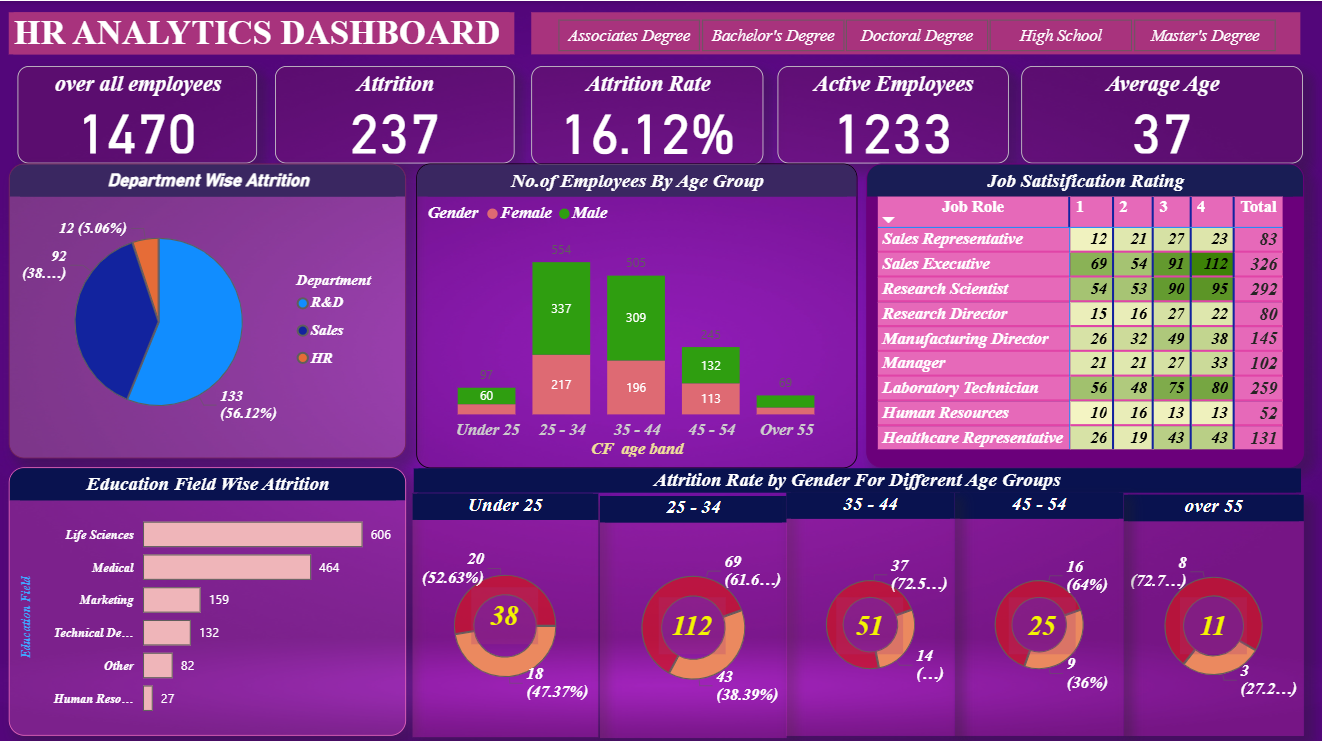

The page's visual inventory and layout, read from the dashboard file:
{"tool":"powerbi","page":{"name":"Page 1","canvas":[1280,720],"ordinal":0},"visuals":[{"type":"card","title":"over all employees","fields":{"Values":["Sum(Table1.Employee Count)"]},"box":[16.5,63.1,231.9,94.7],"z":0},{"type":"card","title":"Attrition","fields":{"Values":["Sum(Table1.Attrition Count)"]},"box":[266.2,63.1,231.9,94.7],"z":1000},{"type":"card","title":"Attrition Rate","fields":{"Values":["Table1.Attrition Rate"]},"box":[514.5,62.9,225.2,95.6],"z":2000},{"type":"card","title":"Active Employees","fields":{"Values":["Table1.Active Employees"]},"box":[753.3,63.1,223.7,94.7],"z":3000},{"type":"card","title":"Average Age","fields":{"Values":["Avg(Table1.Age)"]},"box":[989.4,63.1,273.1,94.7],"z":4000},{"type":"pieChart","title":"Department Wise Attrition","fields":{"Category":["Table1.Department"],"Y":["Sum(Table1.Attrition Count)"]},"box":[8.5,157.4,384.9,285.7],"z":5000},{"type":"columnChart","title":"No.of Employees By Age Group","fields":{"Category":["Table1.CF_age band"],"Y":["Sum(Table1.Employee Count)"],"Series":["Table1.Gender"]},"box":[403.1,157.4,427.3,295.4],"z":6000},{"type":"pivotTable","title":"Job Satisification Rating","fields":{"Rows":["Table1.Job Role"],"Columns":["Table1.Job Satisfaction"],"Values":["Sum(Table1.Employee Count)"]},"box":[838.9,157.4,423.7,294.2],"z":7000},{"type":"barChart","title":"Education Field Wise Attrition","fields":{"Category":["Table1.Education Field"],"Y":["Sum(Table1.Employee Count)"]},"box":[8.5,451.5,384.9,260.3],"z":8000},{"type":"donutChart","title":"Under 25","fields":{"Category":["Table1.Gender"],"Y":["Sum(Table1.Attrition Count)"],"Series":["Table1.CF_age band"]},"box":[399.3,477.5,179.8,236],"z":9000},{"type":"textbox","title":"Attrition Rate by Gender For Different Age Groups","box":[400.7,452.7,859.5,23],"z":10000},{"type":"donutChart","title":" 25 - 34","fields":{"Category":["Table1.Gender"],"Y":["Sum(Table1.Attrition Count)"],"Series":["Table1.CF_age band"]},"box":[580.4,478.9,181.1,234.6],"z":11000},{"type":"donutChart","title":"over 55","fields":{"Category":["Table1.Gender"],"Y":["Sum(Table1.Attrition Count)"],"Series":["Table1.CF_age band"]},"box":[1088.2,478.1,174.3,233.6],"z":12000},{"type":"donutChart","title":"45 - 54 ","fields":{"Category":["Table1.Gender"],"Y":["Sum(Table1.Attrition Count)"],"Series":["Table1.CF_age band"]},"box":[924.8,475.7,163.4,236],"z":13000},{"type":"donutChart","title":"35 - 44","fields":{"Category":["Table1.Gender"],"Y":["Sum(Table1.Attrition Count)"],"Series":["Table1.CF_age band"]},"box":[761.4,475.7,163.4,236],"z":14000},{"type":"card","fields":{"Values":["Sum(Table1.Attrition Count)"]},"box":[456.9,568.1,64.5,54.9],"z":15000},{"type":"card","fields":{"Values":["Sum(Table1.Attrition Count)"]},"box":[977,577.7,64.5,54.9],"z":16000},{"type":"card","fields":{"Values":["Sum(Table1.Attrition Count)"]},"box":[809.6,577.7,64.5,54.9],"z":17000},{"type":"card","fields":{"Values":["Sum(Table1.Attrition Count)"]},"box":[638.1,577.7,64.5,54.9],"z":18000},{"type":"card","fields":{"Values":["Sum(Table1.Attrition Count)"]},"box":[1143.1,577.7,64.5,54.9],"z":19000},{"type":"textbox","title":"HR ANALYTICS DASHBOARD","box":[8.2,11,489.9,41.2],"z":20000},{"type":"slicer","fields":{"Values":["Table1.Education"]},"box":[514.6,11,745.1,41.2],"z":21000}]}

Visuals, with their boxes in screenshot pixels (x1, y1, x2, y2), scaled from the page's 1280x720 canvas onto the 1322x741 screenshot:
"over all employees" card: bbox=(17, 65, 257, 162)
"Attrition" card: bbox=(275, 65, 514, 162)
"Attrition Rate" card: bbox=(531, 65, 764, 163)
"Active Employees" card: bbox=(778, 65, 1009, 162)
"Average Age" card: bbox=(1022, 65, 1304, 162)
"Department Wise Attrition" pieChart: bbox=(9, 162, 406, 456)
"No.of Employees By Age Group" columnChart: bbox=(416, 162, 858, 466)
"Job Satisification Rating" pivotTable: bbox=(866, 162, 1304, 465)
"Education Field Wise Attrition" barChart: bbox=(9, 465, 406, 733)
"Under 25" donutChart: bbox=(412, 491, 598, 734)
"Attrition Rate by Gender For Different Age Groups" textbox: bbox=(414, 466, 1302, 490)
" 25 - 34" donutChart: bbox=(599, 493, 786, 734)
"over 55" donutChart: bbox=(1124, 492, 1304, 732)
"45 - 54 " donutChart: bbox=(955, 490, 1124, 732)
"35 - 44" donutChart: bbox=(786, 490, 955, 732)
card - Sum(Table1.Attrition Count): bbox=(472, 585, 539, 641)
card - Sum(Table1.Attrition Count): bbox=(1009, 595, 1076, 651)
card - Sum(Table1.Attrition Count): bbox=(836, 595, 903, 651)
card - Sum(Table1.Attrition Count): bbox=(659, 595, 726, 651)
card - Sum(Table1.Attrition Count): bbox=(1181, 595, 1247, 651)
"HR ANALYTICS DASHBOARD" textbox: bbox=(8, 11, 514, 54)
slicer - Table1.Education: bbox=(531, 11, 1301, 54)
